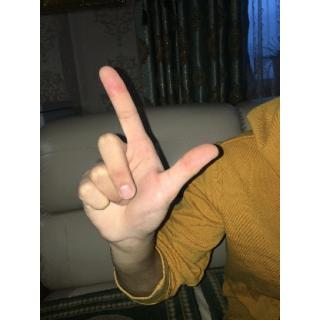LAAM: (78, 59, 222, 250)
